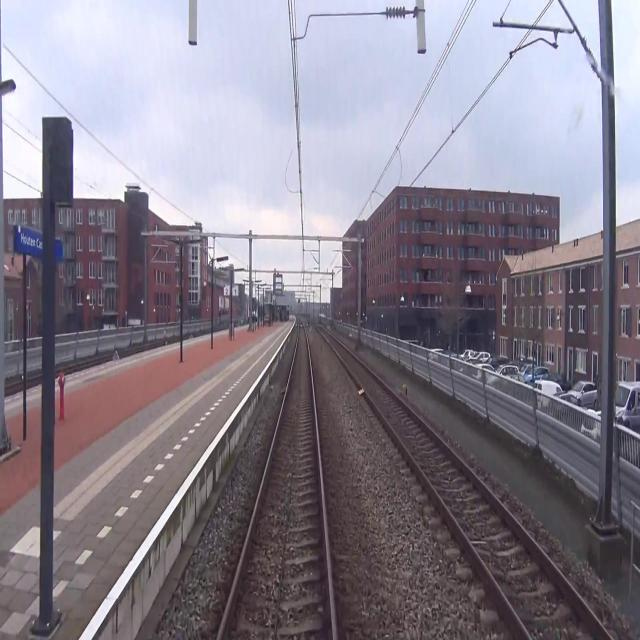rail-track: (321, 329, 608, 639), (221, 320, 331, 639)
